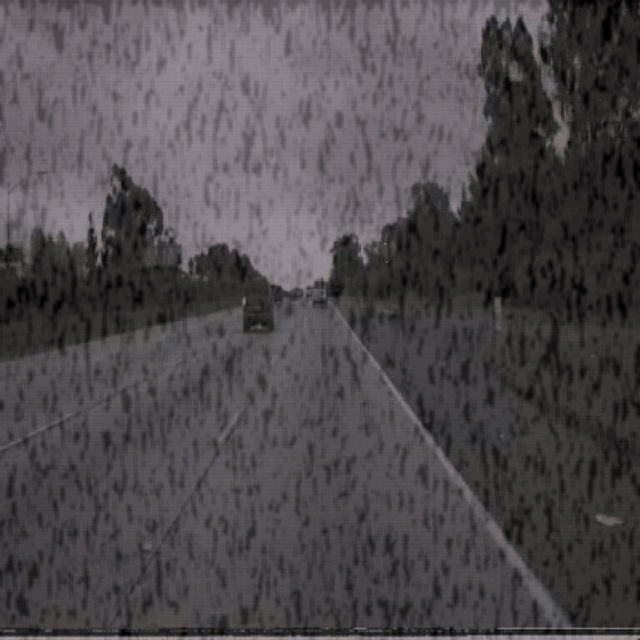merge: (379, 228, 398, 265)
